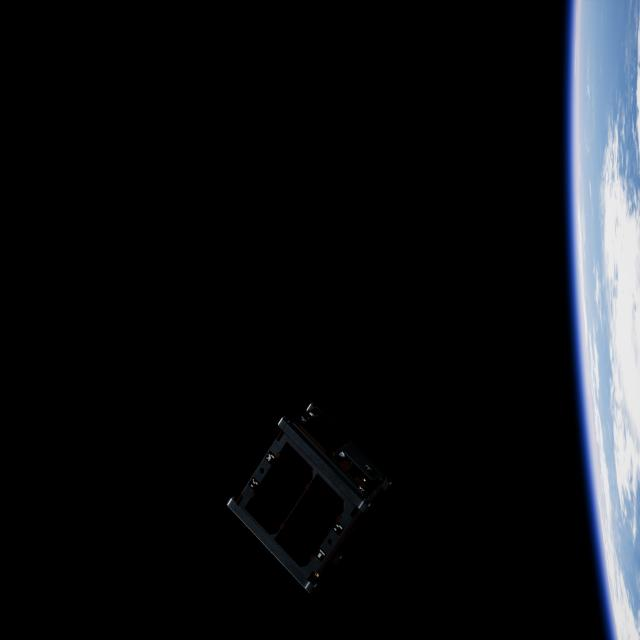satellite: (225, 400, 389, 588)
